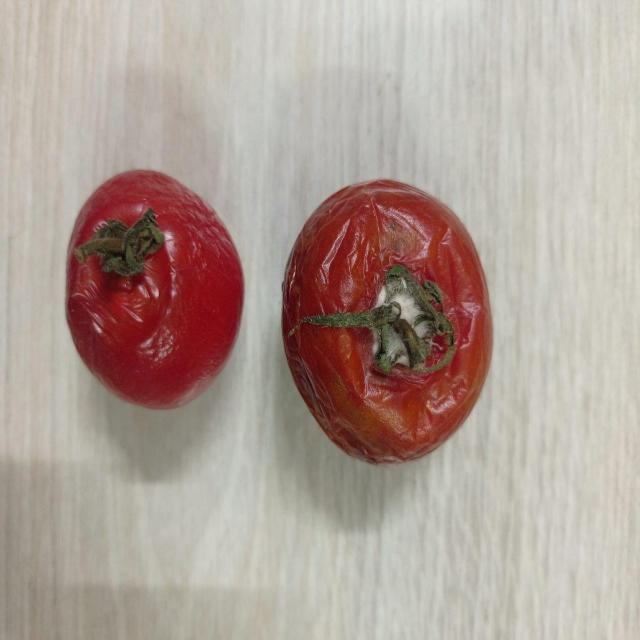Rotten: (279, 174, 494, 466)
overripe: (64, 170, 244, 410)
